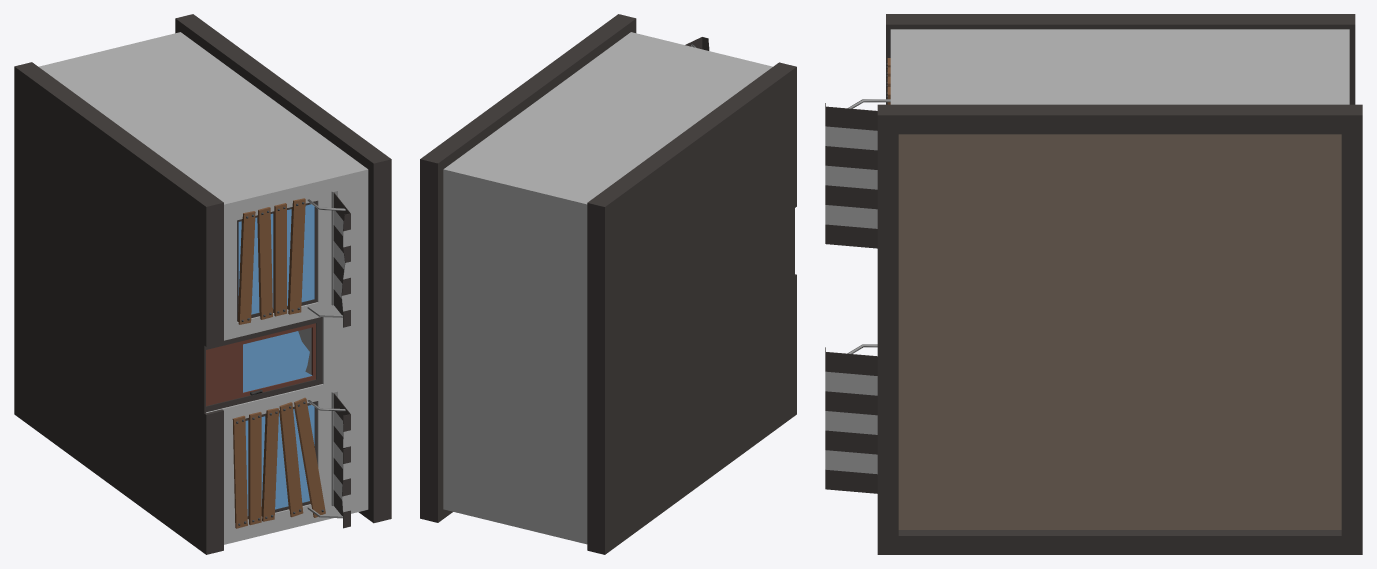
File: ShopBroke.fbx
The picture shows the model from 3 angles, left to right: view 1: azimuth 30°, elevation 25°; view 2: azimuth 150°, elevation 25°; view 3: azimuth 270°, elevation 25°; orthographic projection. The views are drawn at different scales.
Visible parts, largest first — view 1: Shop_fracturepart133, Shop_fracturepart126, Shop_fracturepart115, Shop_fracturepart122, Shop_fracturepart33, Shop_fracturepart48, Shop_fracturepart40, Shop_fracturepart26, Shop_fracturepart110, Shop_fracturepart134, Shop_fracturepart124, Shop_fracturepart64 (+72 smaller); view 2: Shop_fracturepart133, Shop_fracturepart33, Shop_fracturepart48, Shop_fracturepart40, Shop_fracturepart26, Shop_fracturepart115, Shop_fracturepart126, Shop_fracturepart84, Shop_fracturepart57, Shop_fracturepart56, Shop_fracturepart150, Shop_fracturepart44 (+56 smaller); view 3: Shop_fracturepart59, Shop_fracturepart124, Shop_fracturepart94, Shop_fracturepart122, Shop_fracturepart8, Shop_fracturepart36, Shop_fracturepart24, Shop_fracturepart102, Shop_fracturepart131, Shop_fracturepart66, Shop_fracturepart71, Shop_fracturepart91 (+55 smaller).
Part boxes in pixels (box(x1,y1,x2,y2)): Shop_fracturepart133: box(130, 304, 234, 451); Shop_fracturepart126: box(135, 246, 319, 371); Shop_fracturepart115: box(167, 173, 293, 272); Shop_fracturepart122: box(274, 135, 391, 246); Shop_fracturepart33: box(51, 260, 136, 379); Shop_fracturepart48: box(97, 367, 158, 511); Shop_fracturepart40: box(67, 124, 138, 297); Shop_fracturepart26: box(126, 145, 202, 287); Shop_fracturepart110: box(155, 446, 234, 540); Shop_fracturepart134: box(293, 328, 391, 427); Shop_fracturepart124: box(319, 236, 391, 320); Shop_fracturepart64: box(36, 368, 97, 449); Shop_fracturepart133: box(720, 234, 796, 379); Shop_fracturepart33: box(642, 261, 726, 397); Shop_fracturepart48: box(688, 339, 748, 491); Shop_fracturepart40: box(658, 152, 729, 264); Shop_fracturepart26: box(703, 89, 764, 244); Shop_fracturepart115: box(685, 50, 796, 171); Shop_fracturepart126: box(726, 132, 796, 265); Shop_fracturepart84: box(538, 469, 626, 543); Shop_fracturepart57: box(566, 270, 639, 362); Shop_fracturepart56: box(554, 186, 632, 264); Shop_fracturepart150: box(426, 291, 505, 372); Shop_fracturepart44: box(521, 226, 607, 294); Shop_fracturepart59: box(1075, 324, 1220, 454); Shop_fracturepart124: box(877, 198, 1014, 326); Shop_fracturepart94: box(960, 212, 1106, 334); Shop_fracturepart122: box(877, 72, 968, 211); Shop_fracturepart8: box(1121, 158, 1202, 325); Shop_fracturepart36: box(1010, 146, 1183, 233); Shop_fracturepart24: box(1209, 104, 1339, 214); Shop_fracturepart102: box(958, 331, 1096, 401); Shop_fracturepart131: box(1153, 287, 1284, 363); Shop_fracturepart66: box(1052, 186, 1147, 325); Shop_fracturepart71: box(877, 351, 983, 455); Shop_fracturepart91: box(968, 395, 1077, 467).
Size of the model in its own units: 336 by 634 by 703.
2 materials, 1 textured.
